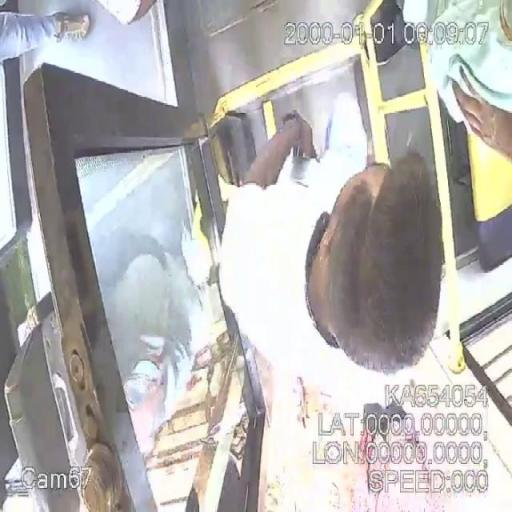persona: (219, 112, 446, 390), (426, 0, 511, 163), (0, 9, 91, 64)
